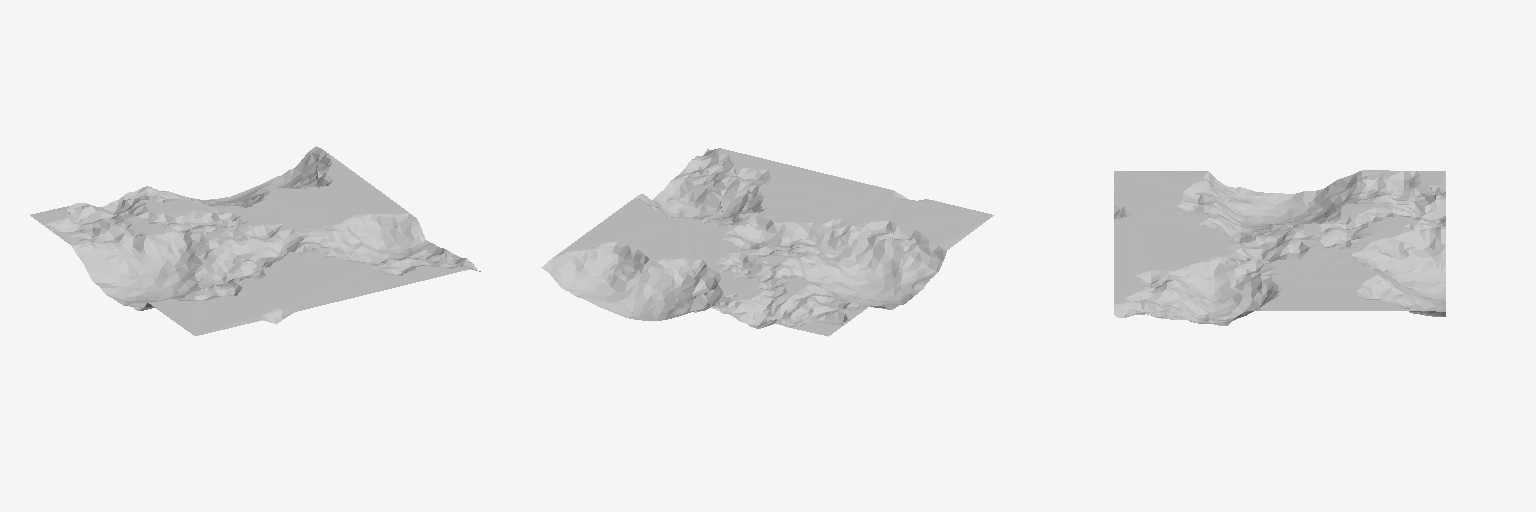
The model's file is scenebaked.obj.
3 renders of one model, left to right at view 1: azimuth 30°, elevation 25°; view 2: azimuth 150°, elevation 25°; view 3: azimuth 270°, elevation 25°, orthographic.
Parts seen in each view (by area): view 1: Landscape.001; view 2: Landscape.001; view 3: Landscape.001.
Part boxes in pixels (left/top/right/bottom): Landscape.001: left=30, top=146, right=480, bottom=335; Landscape.001: left=541, top=148, right=993, bottom=336; Landscape.001: left=1114, top=170, right=1445, bottom=325.
Bounding box in the file's own units: 2 × 0.2071 × 2.